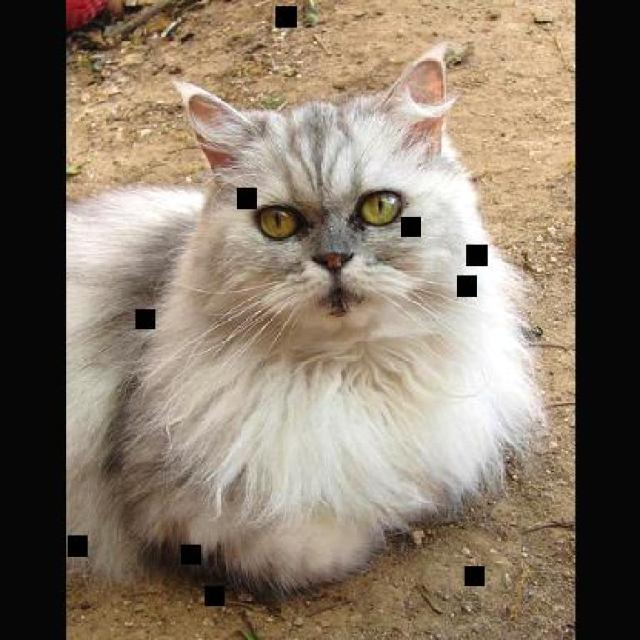unauthorized: (65, 40, 548, 602)
